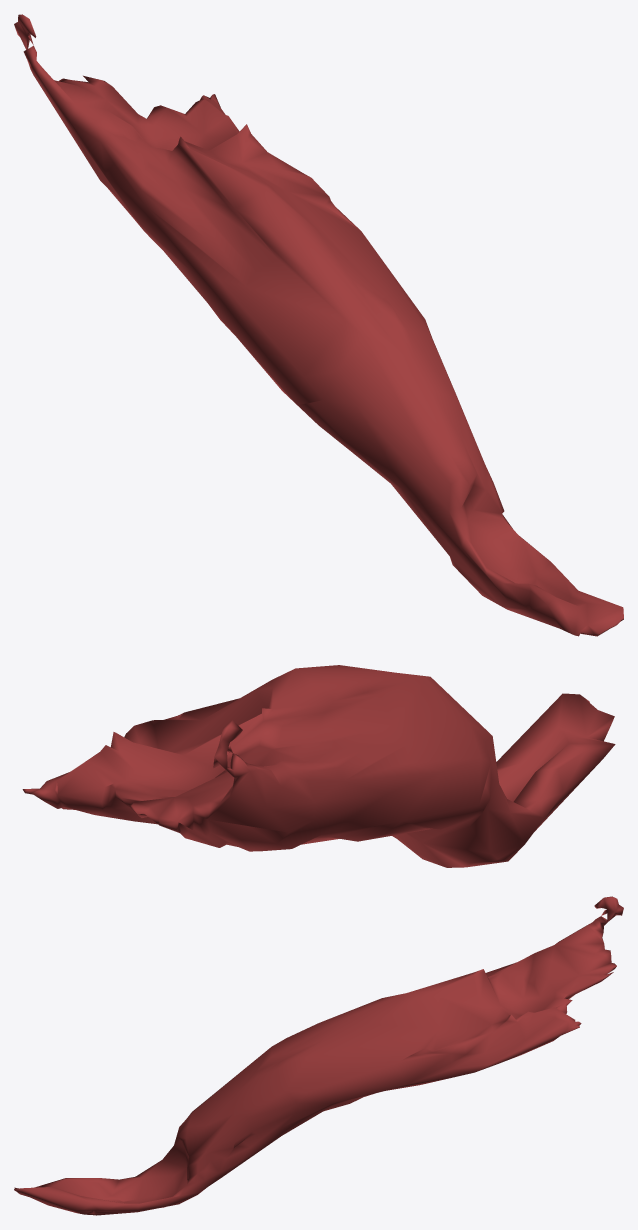
Rendered from lateral-head-of-flexor-hallucis-brevis-l.glb.
3 renders of one model, top to bottom at view 1: azimuth 30°, elevation 25°; view 2: azimuth 150°, elevation 25°; view 3: azimuth 270°, elevation 25°, orthographic. The views are drawn at different scales.
Visible parts, largest first — view 1: Lateral head of flexor hallucis brevis.l; view 2: Lateral head of flexor hallucis brevis.l; view 3: Lateral head of flexor hallucis brevis.l.
Boxes of the visible parts, left/top/right/bottom form: Lateral head of flexor hallucis brevis.l: left=14, top=14, right=623, bottom=636; Lateral head of flexor hallucis brevis.l: left=22, top=665, right=615, bottom=867; Lateral head of flexor hallucis brevis.l: left=14, top=896, right=623, bottom=1215.
Size of the model in its own units: 0.0209 by 0.0385 by 0.0813.
